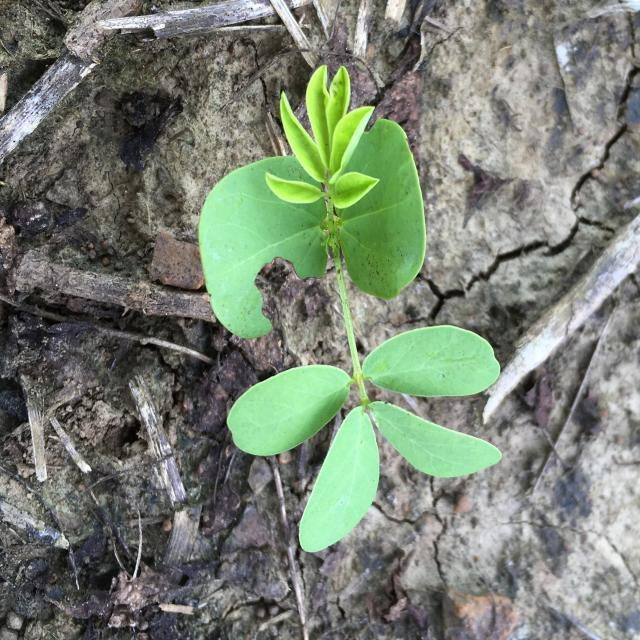Sicklepod: (198, 65, 503, 552)
